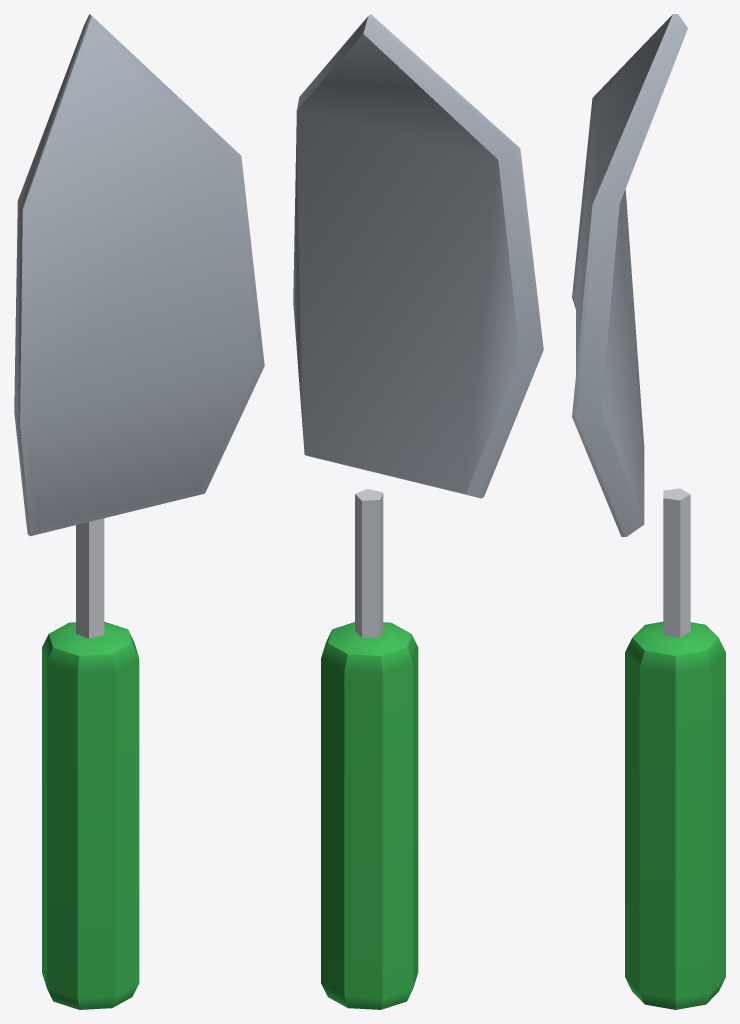
Rendered from Trowel.fbx.
3 views of the same model, side by side, from view 1: azimuth 30°, elevation 25°; view 2: azimuth 150°, elevation 25°; view 3: azimuth 270°, elevation 25° (orthographic).
Parts seen in each view (by area): view 1: Trowel; view 2: Trowel; view 3: Trowel.
Part boxes in pixels (x1,y1,x2,y2): Trowel: (14, 14, 264, 1009); Trowel: (293, 14, 543, 1009); Trowel: (572, 14, 725, 1009).
Bounding box in the file's own units: 0.56 × 2.15 × 0.305.
Materials: 1 (1 with a texture image).
